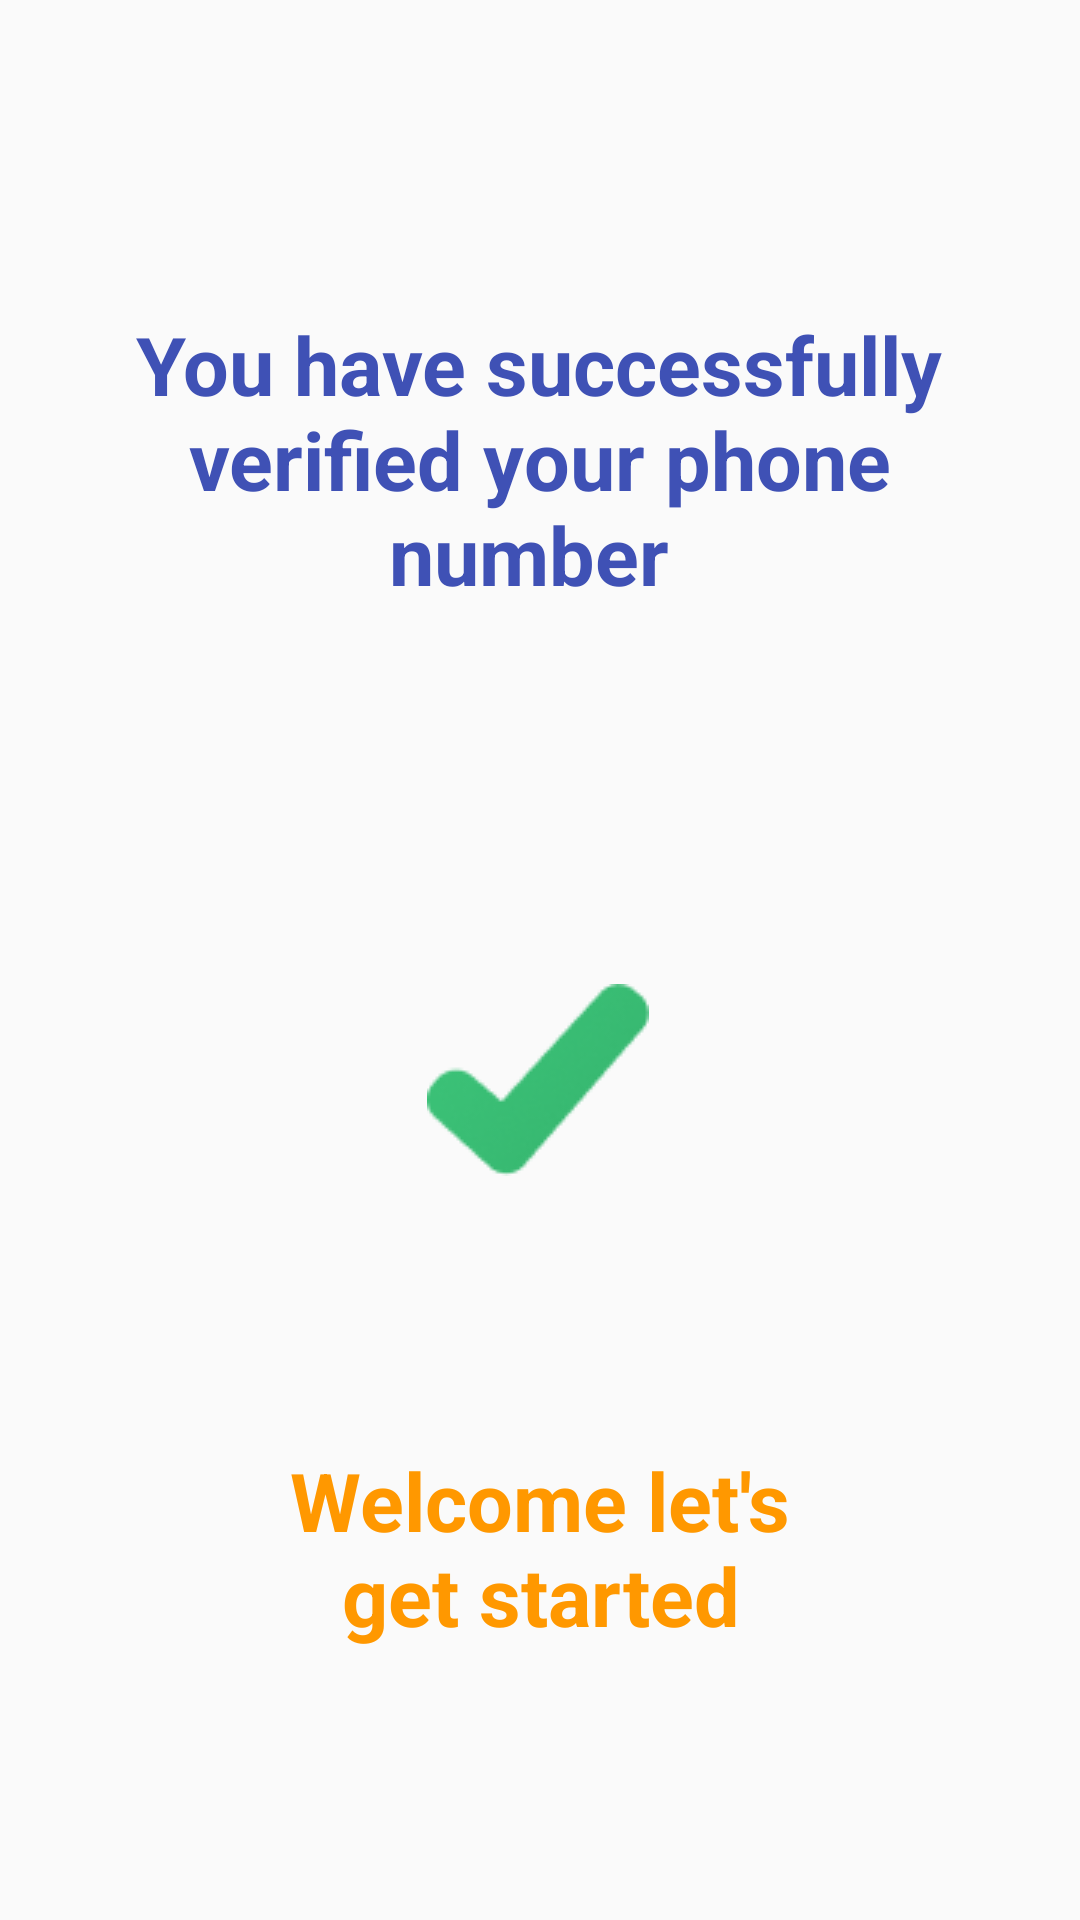

Icons on this 1080×1920 Android screen, each with the point to tap as (x,y):
tick: (538,1079)
